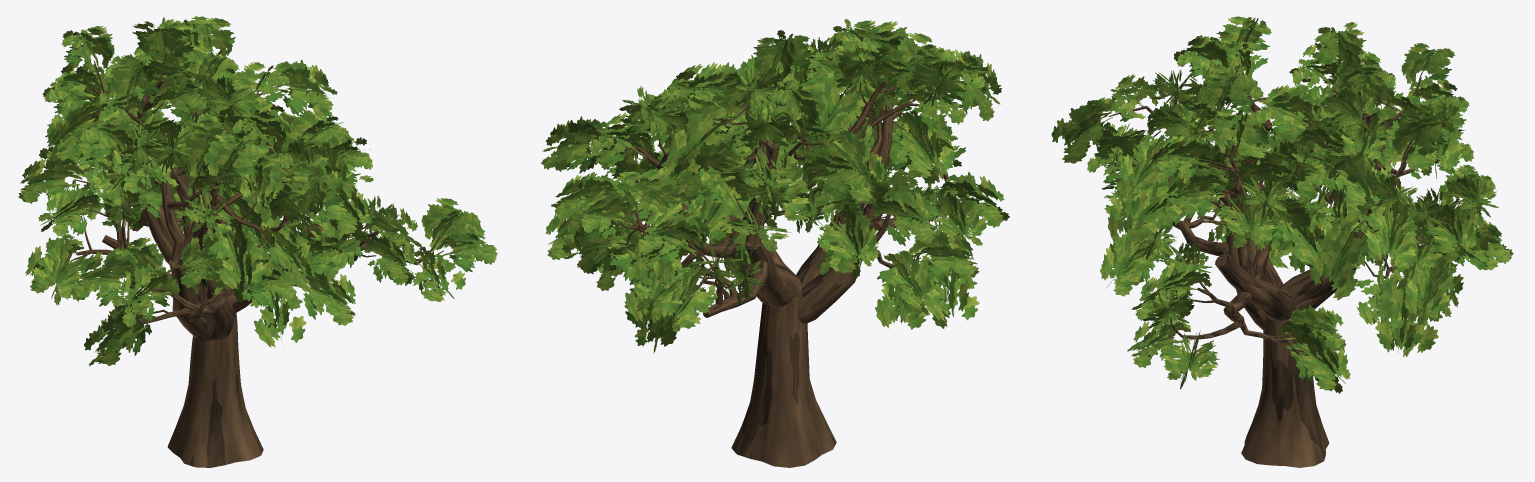
The model's file is SM_Grassland_AncientOak_A.glb.
3 renders of one model, left to right at view 1: azimuth 30°, elevation 25°; view 2: azimuth 150°, elevation 25°; view 3: azimuth 270°, elevation 25°, orthographic. The views are drawn at different scales.
Parts seen in each view (by area): view 1: SM_Grassland_AncientOak_A; view 2: SM_Grassland_AncientOak_A; view 3: SM_Grassland_AncientOak_A.
Part boxes in pixels (box(x1,y1,x2,y2)): SM_Grassland_AncientOak_A: box(18, 16, 497, 467); SM_Grassland_AncientOak_A: box(541, 18, 1009, 467); SM_Grassland_AncientOak_A: box(1051, 16, 1513, 467).
Bounding box in the file's own units: 11.7 × 11 × 11.59.
Materials: 2 (2 with a texture image).
